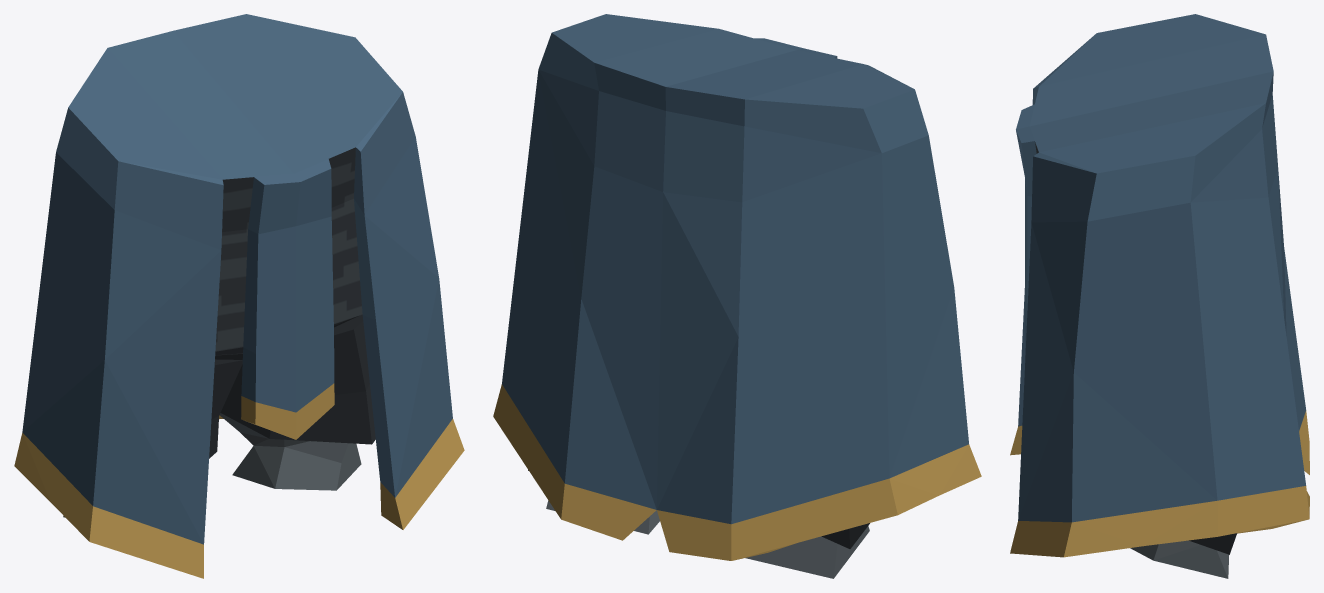
The model's file is Chr_Hips_Male_12_Static.fbx.
The picture shows the model from 3 angles, left to right: view 1: azimuth 30°, elevation 25°; view 2: azimuth 150°, elevation 25°; view 3: azimuth 270°, elevation 25°; orthographic projection. The views are drawn at different scales.
Visible parts, largest first — view 1: Chr_Hips_Male_12_Static; view 2: Chr_Hips_Male_12_Static; view 3: Chr_Hips_Male_12_Static.
Part boxes in pixels (left/top/right/bottom): Chr_Hips_Male_12_Static: left=14, top=14, right=464, bottom=578; Chr_Hips_Male_12_Static: left=493, top=14, right=981, bottom=578; Chr_Hips_Male_12_Static: left=1010, top=14, right=1309, bottom=578.
Size of the model in its own units: 0.4947 by 0.5544 by 0.3388.
